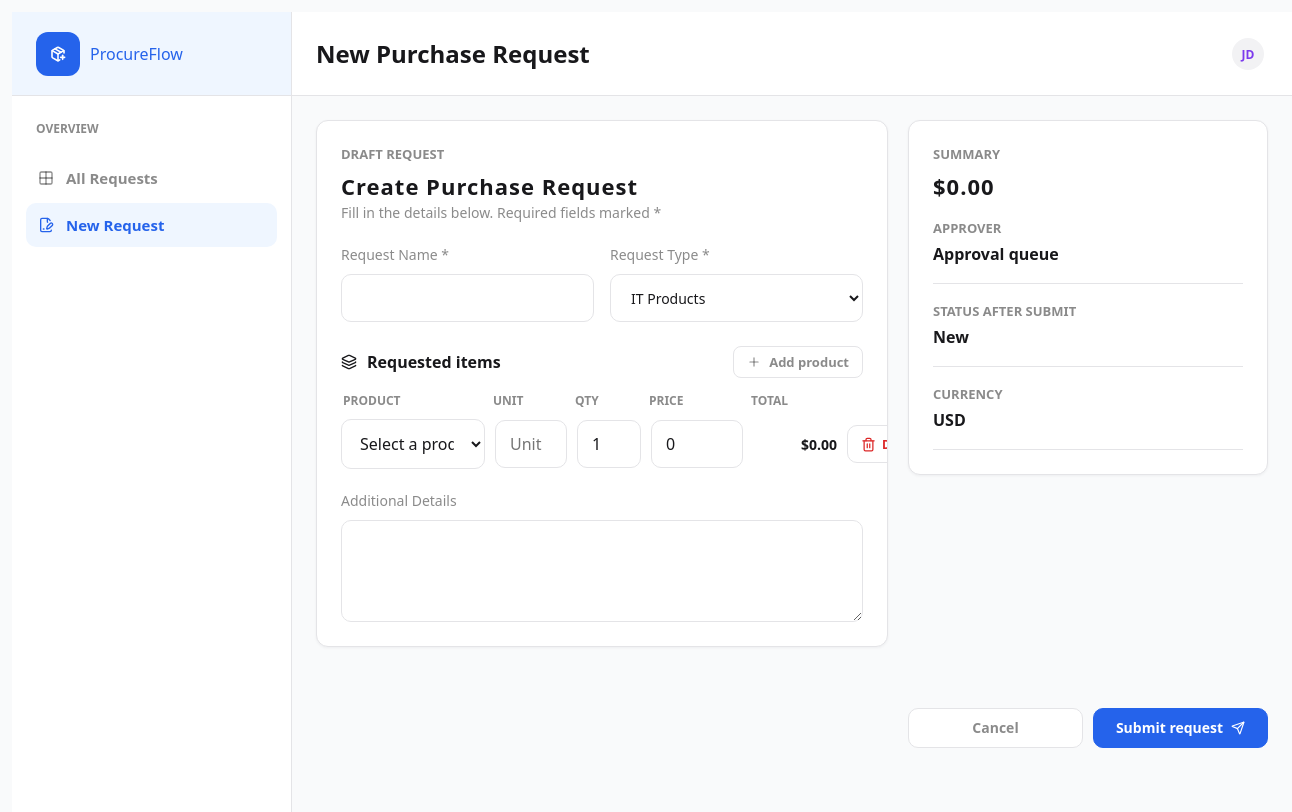
it: App integration flows › creates a requester-owned request using prices from the requester region
This screenshot has width=1292, height=812.
Check: the heading "Create Purchase Request" is shown, box x1=341 y1=171 x2=661 y2=201
Type "Created monitor request" into the 1st field. click: (468, 298)
box: x1=341 y1=274 x2=594 y2=322
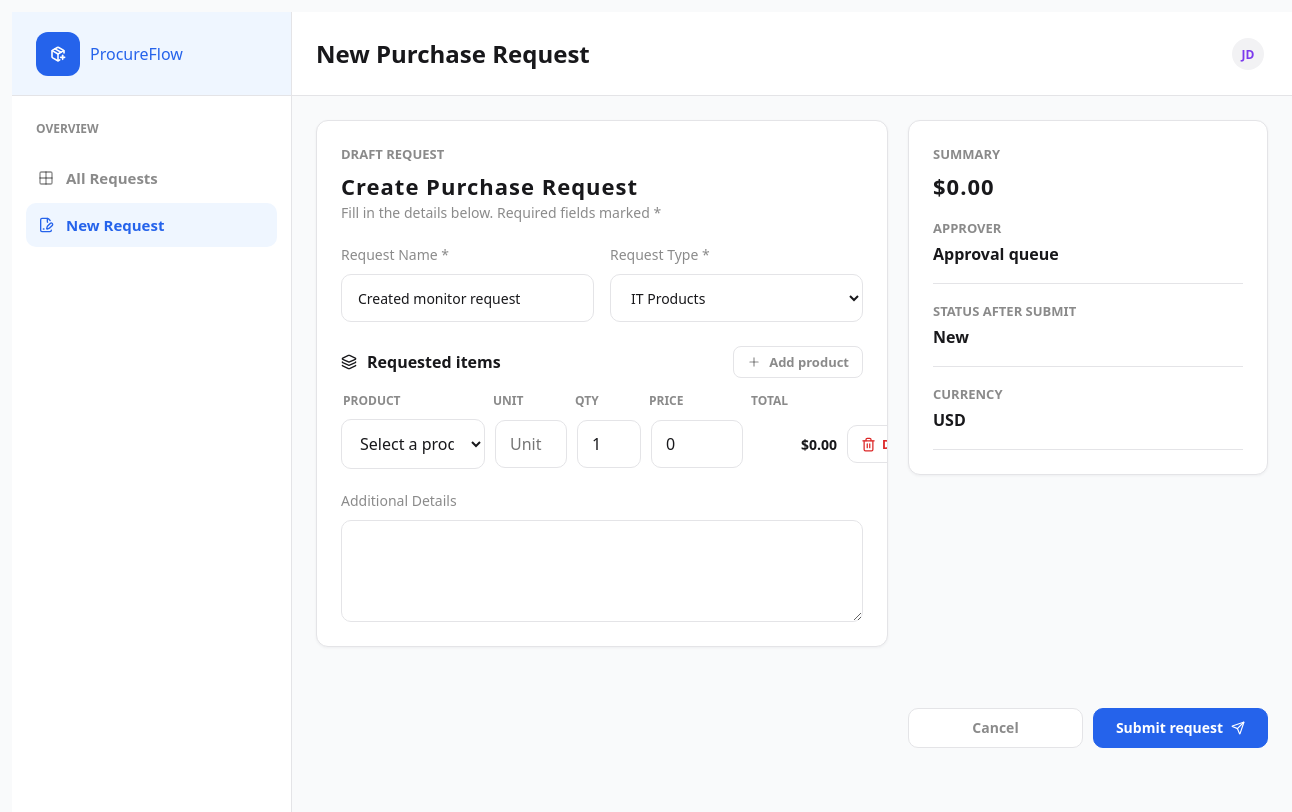
Select "Monitor" in the dropdown named "Product". click: (413, 444)
box: x1=341 y1=419 x2=485 y2=469
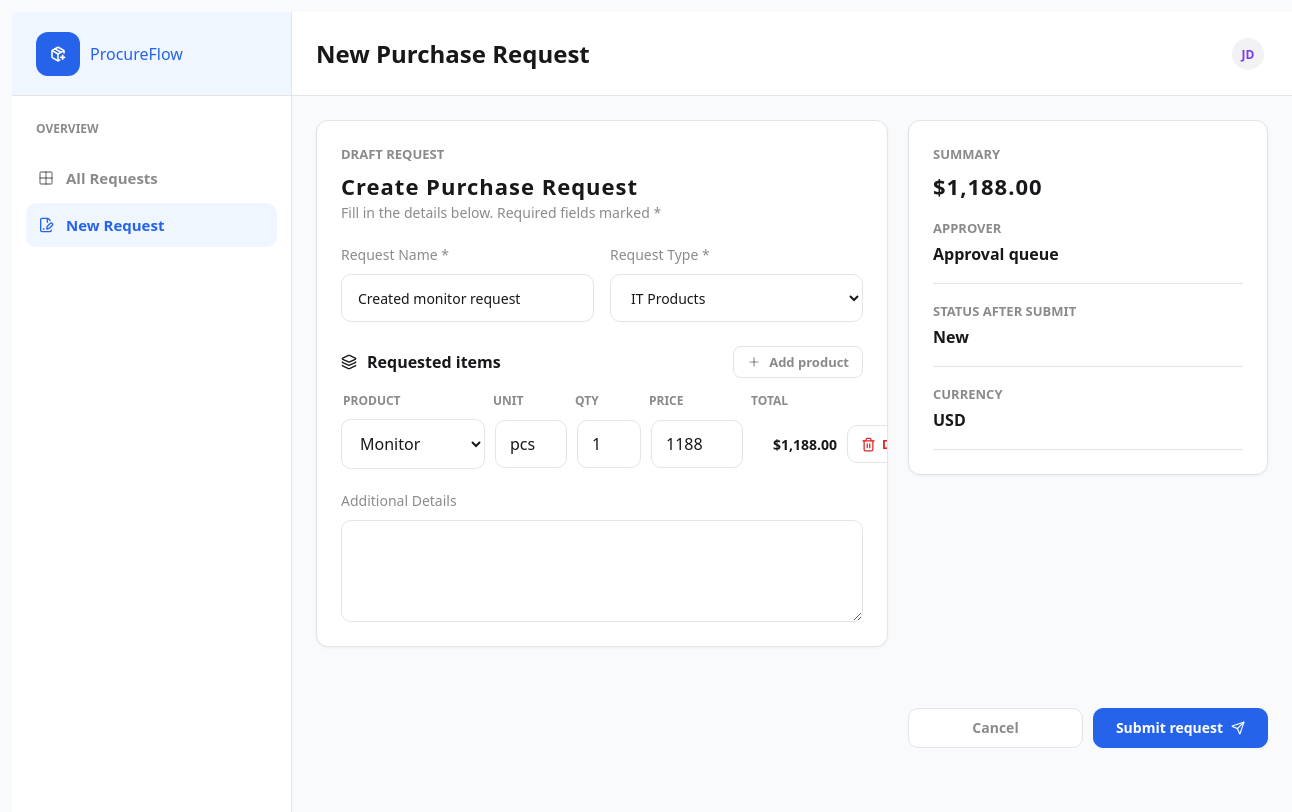
Type "Need another display" into the text box. click: (602, 571)
box: x1=341 y1=520 x2=863 y2=622
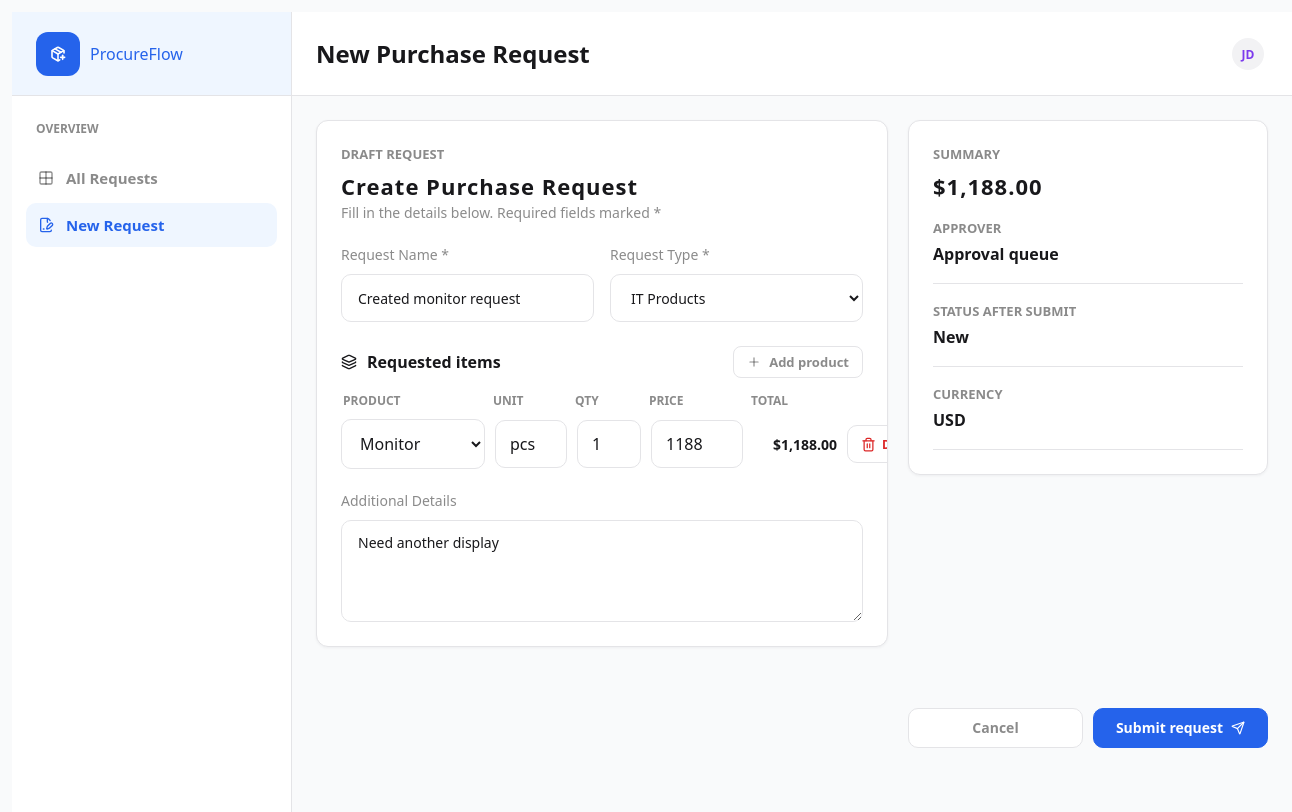
Check: the text "$1,188.00" is shown, box x1=773 y1=434 x2=837 y2=454
Click the button "Submit request". click: (1180, 728)
box: x1=1093 y1=708 x2=1268 y2=748
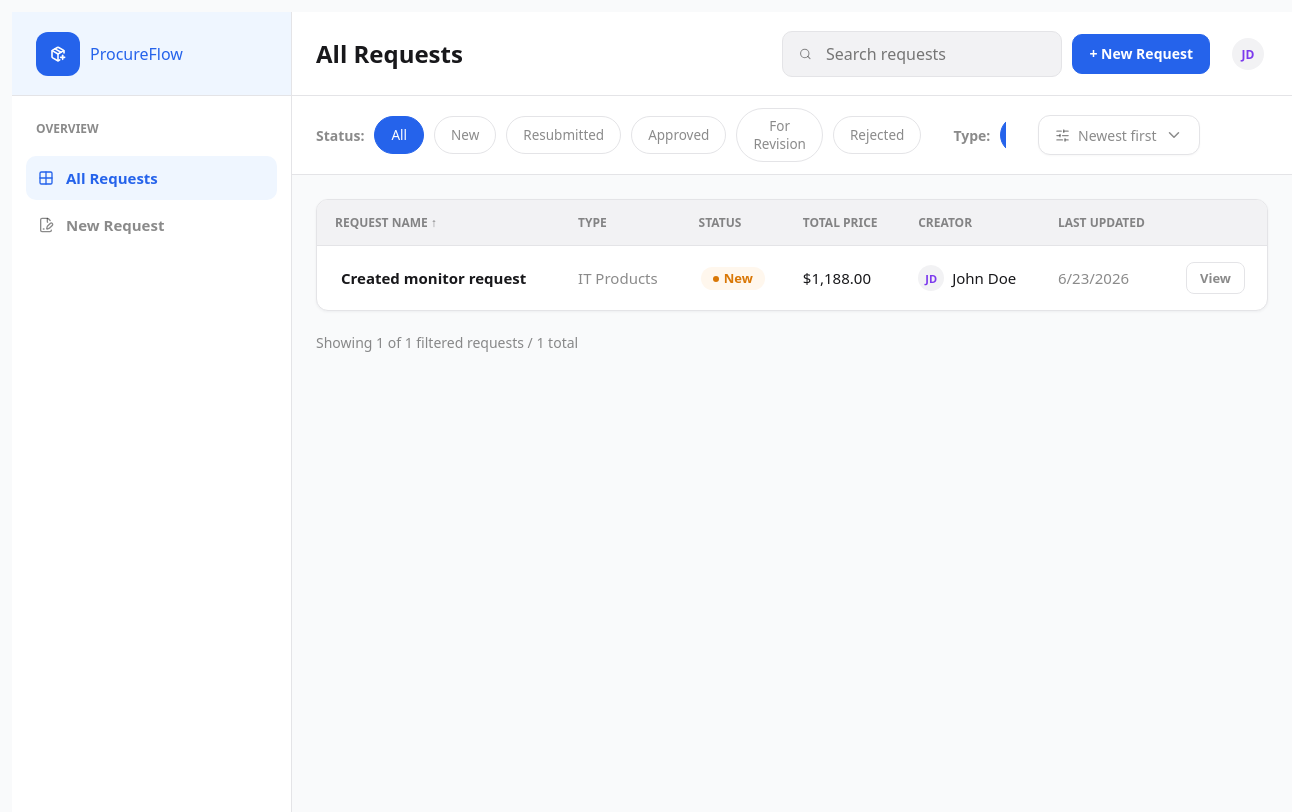
Check: the heading "All Requests" is shown, box x1=316 y1=37 x2=463 y2=70
Check: the button "Created monitor request" is shown, box x1=335 y1=267 x2=532 y2=289
